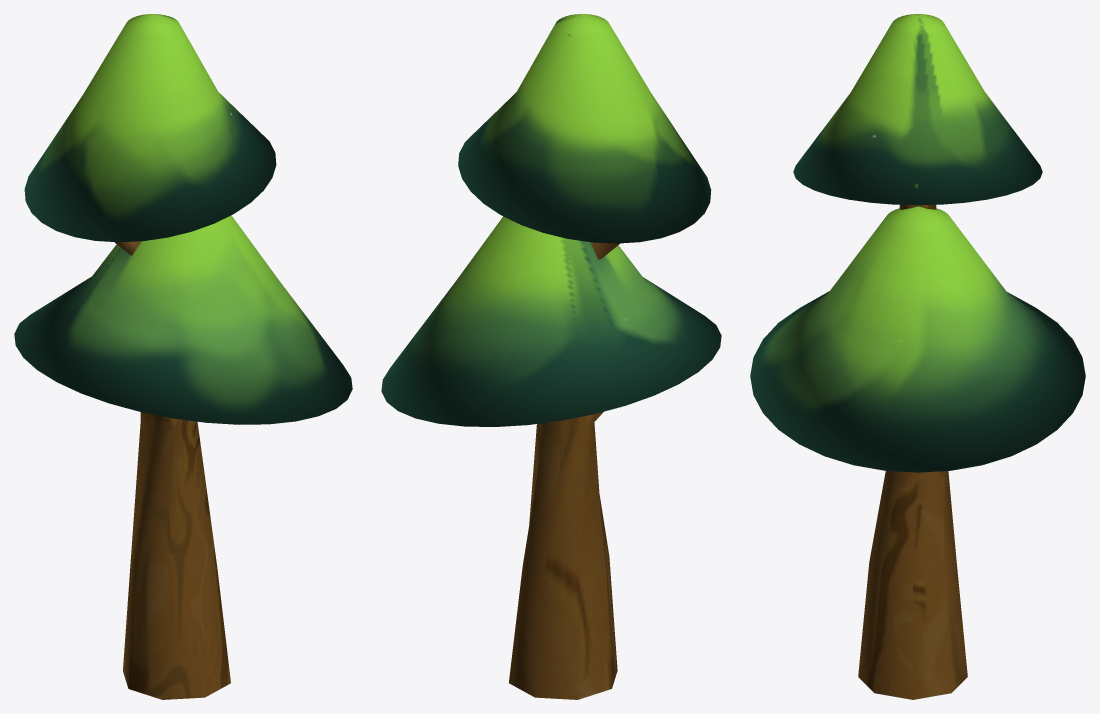
The model's file is tree5.fbx.
3 renders of one model, left to right at view 1: azimuth 30°, elevation 25°; view 2: azimuth 150°, elevation 25°; view 3: azimuth 270°, elevation 25°, orthographic. The views are drawn at different scales.
Visible parts, largest first — view 1: tree.005; view 2: tree.005; view 3: tree.005.
Part boxes in pixels (box(x1,y1,x2,y2)): tree.005: box(14, 14, 352, 699); tree.005: box(381, 14, 721, 699); tree.005: box(750, 14, 1085, 699).
Size of the model in its own units: 803 by 1747 by 815.
